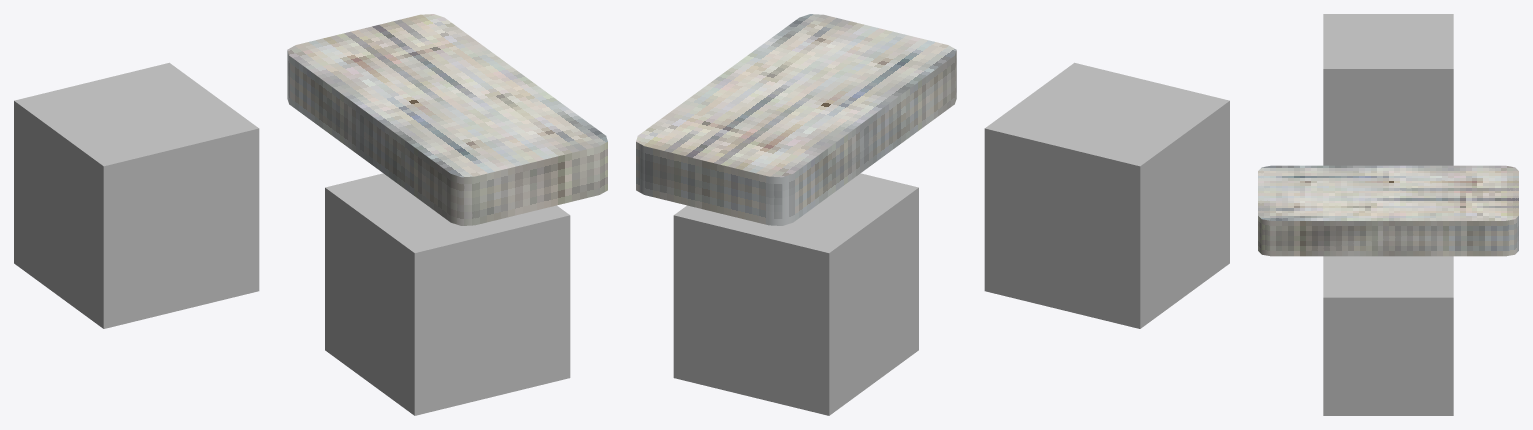
File: matress.obj
The picture shows the model from 3 angles, left to right: view 1: azimuth 30°, elevation 25°; view 2: azimuth 150°, elevation 25°; view 3: azimuth 270°, elevation 25°; orthographic projection. The views are drawn at different scales.
Visible parts, largest first — view 1: Cube.001, Cube, mattress; view 2: Cube.001, Cube, mattress; view 3: mattress, Cube, Cube.001.
Boxes of the visible parts, <box> form: Cube.001: <box>14,62,259,328</box>; Cube: <box>325,173,570,415</box>; mattress: <box>287,14,607,225</box>; Cube.001: <box>984,62,1229,328</box>; Cube: <box>673,173,918,415</box>; mattress: <box>636,14,956,225</box>; mattress: <box>1258,165,1518,256</box>; Cube: <box>1323,256,1453,415</box>; Cube.001: <box>1323,14,1453,165</box>.
Size of the model in its own units: 3 by 2 by 2.
